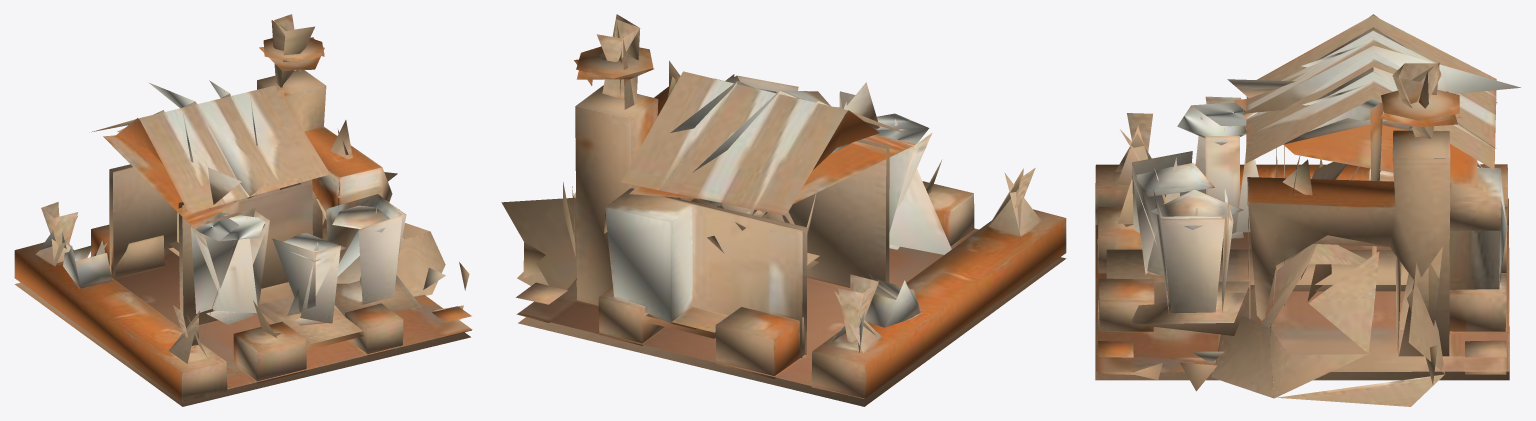
File: salvage-clay.lod1.glb
3 views of the same model, side by side, from view 1: azimuth 30°, elevation 25°; view 2: azimuth 150°, elevation 25°; view 3: azimuth 270°, elevation 25° (orthographic). The views are drawn at different scales.
Visible parts, largest first — view 1: salvage-clay_lod1; view 2: salvage-clay_lod1; view 3: salvage-clay_lod1.
Part boxes in pixels (x1,y1,x2,y2): salvage-clay_lod1: (14,14,472,406); salvage-clay_lod1: (501,14,1066,406); salvage-clay_lod1: (1095,14,1520,406).
Size of the model in its own units: 0.8532 by 0.5535 by 0.7475.
1 material, 1 textured.
